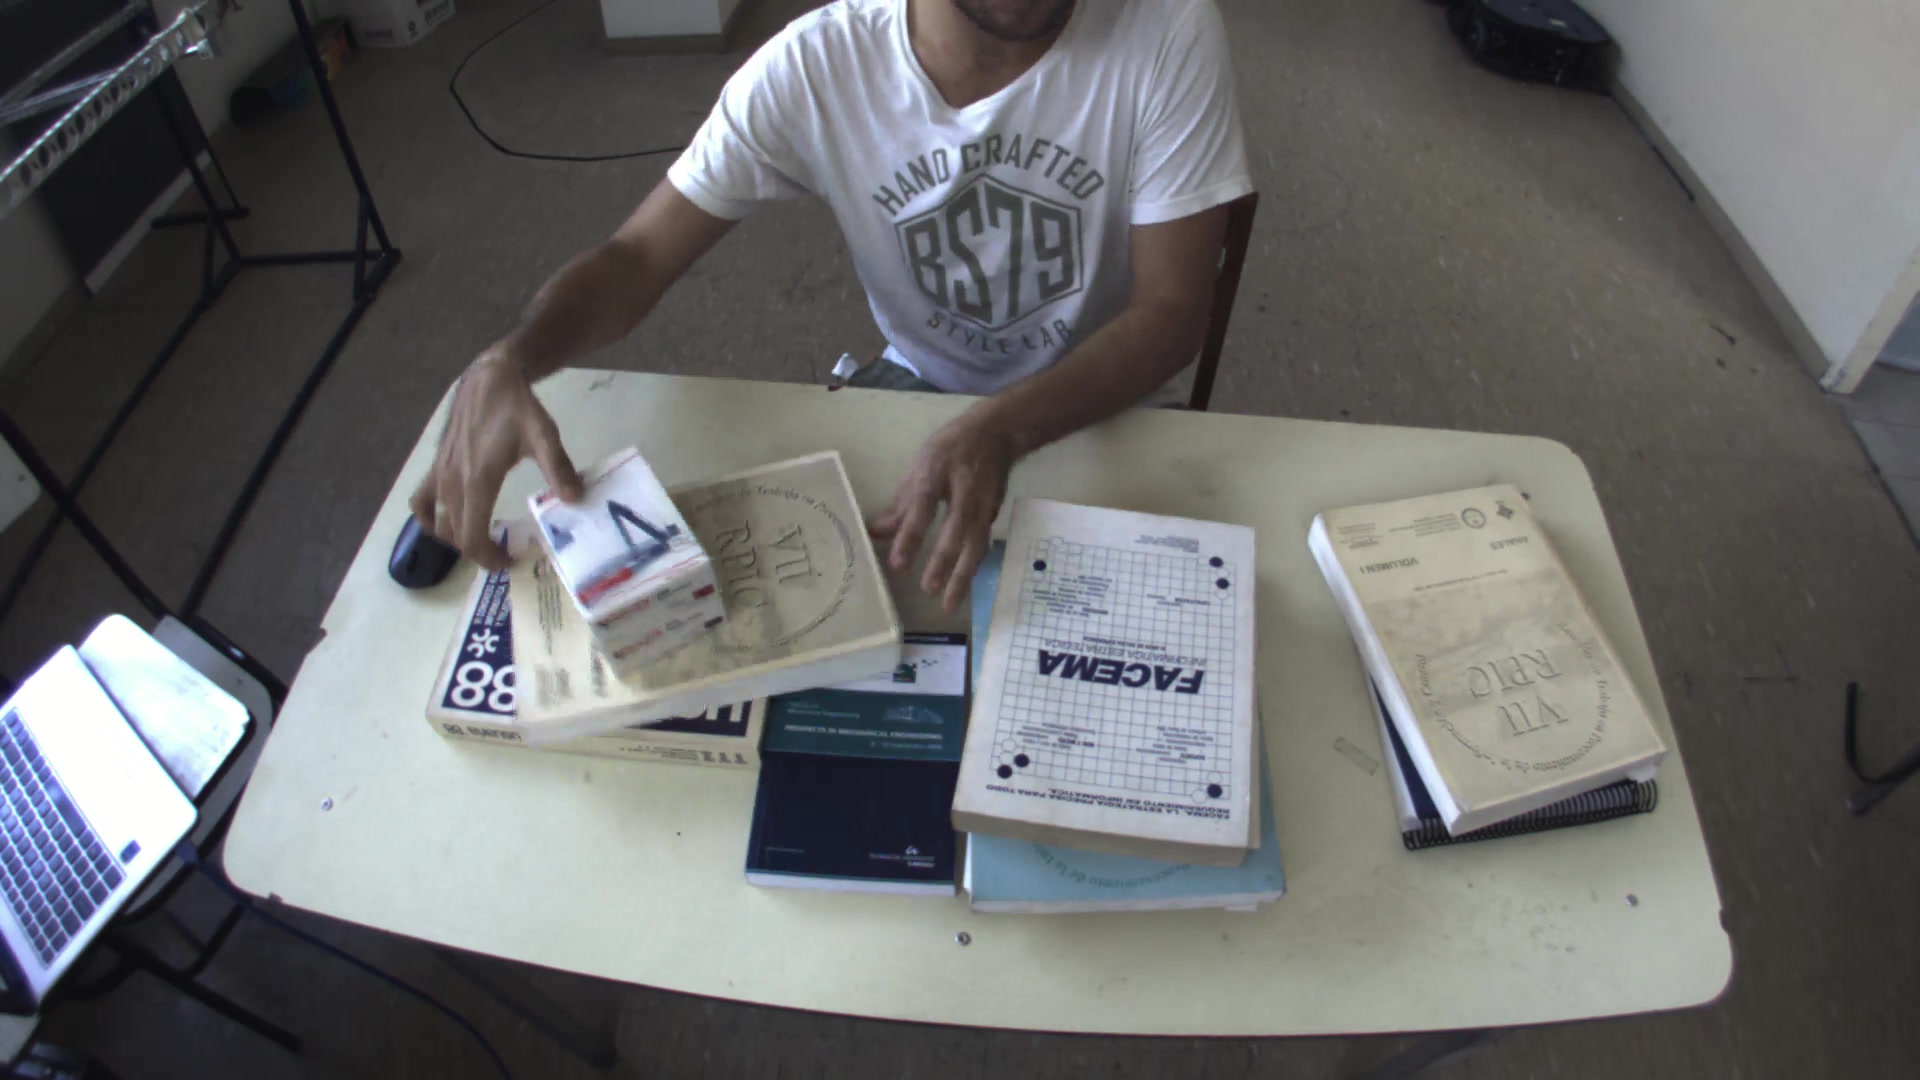hand: (405, 345, 578, 578), (866, 405, 1026, 603)
